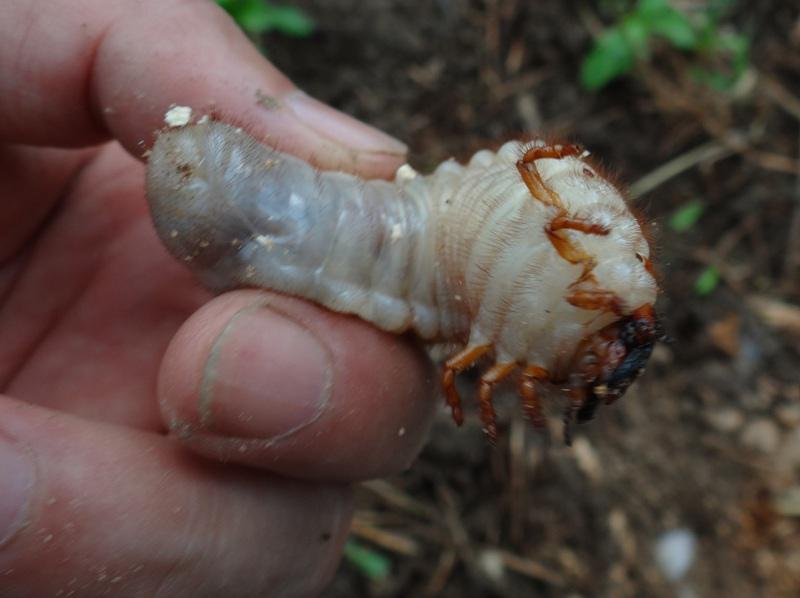grub: (141, 111, 691, 411)
